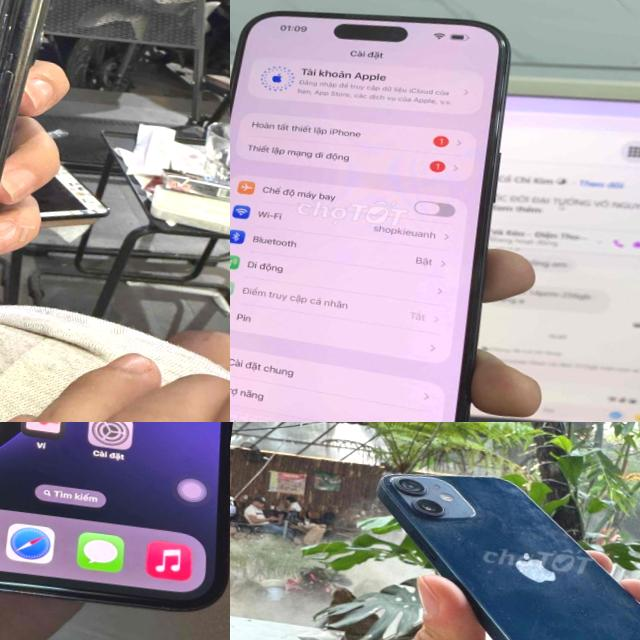gen_11: (0, 0, 70, 422)
gen_12_13: (344, 455, 640, 640), (0, 422, 230, 626)
gen_15: (230, 0, 539, 422)
